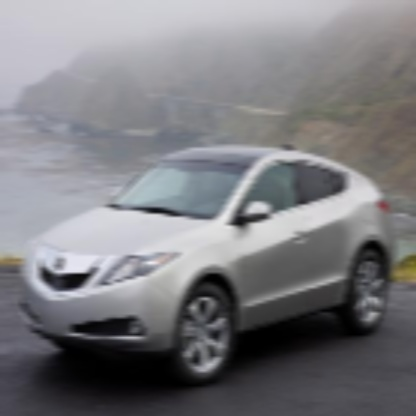Vehicle: (19, 146, 396, 386)
